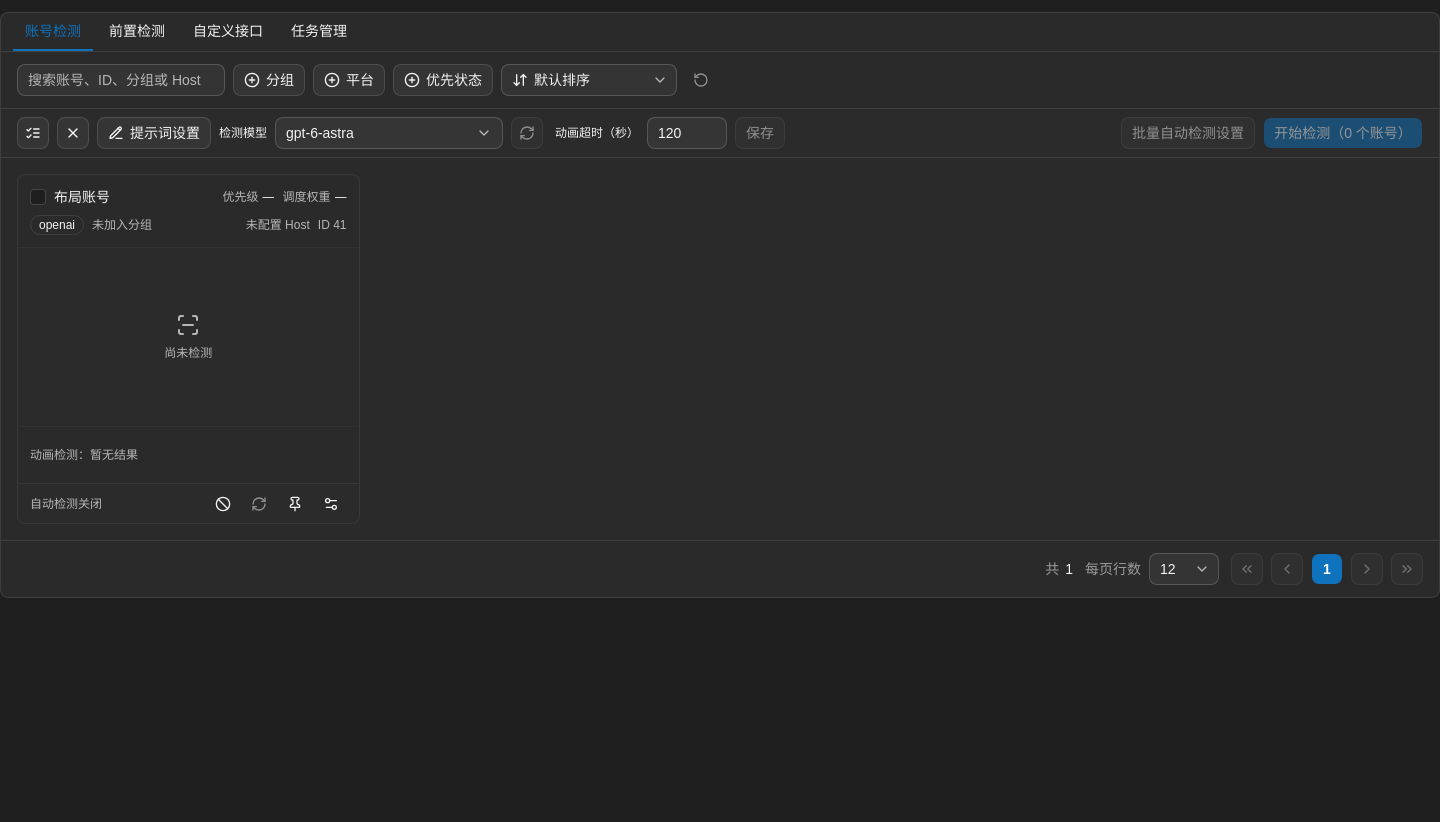
Test case: 前置检测 的模型和超时位于开始检测操作栏内
Click the tab "前置检测".
click(137, 32)  # box [97,13,177,51]
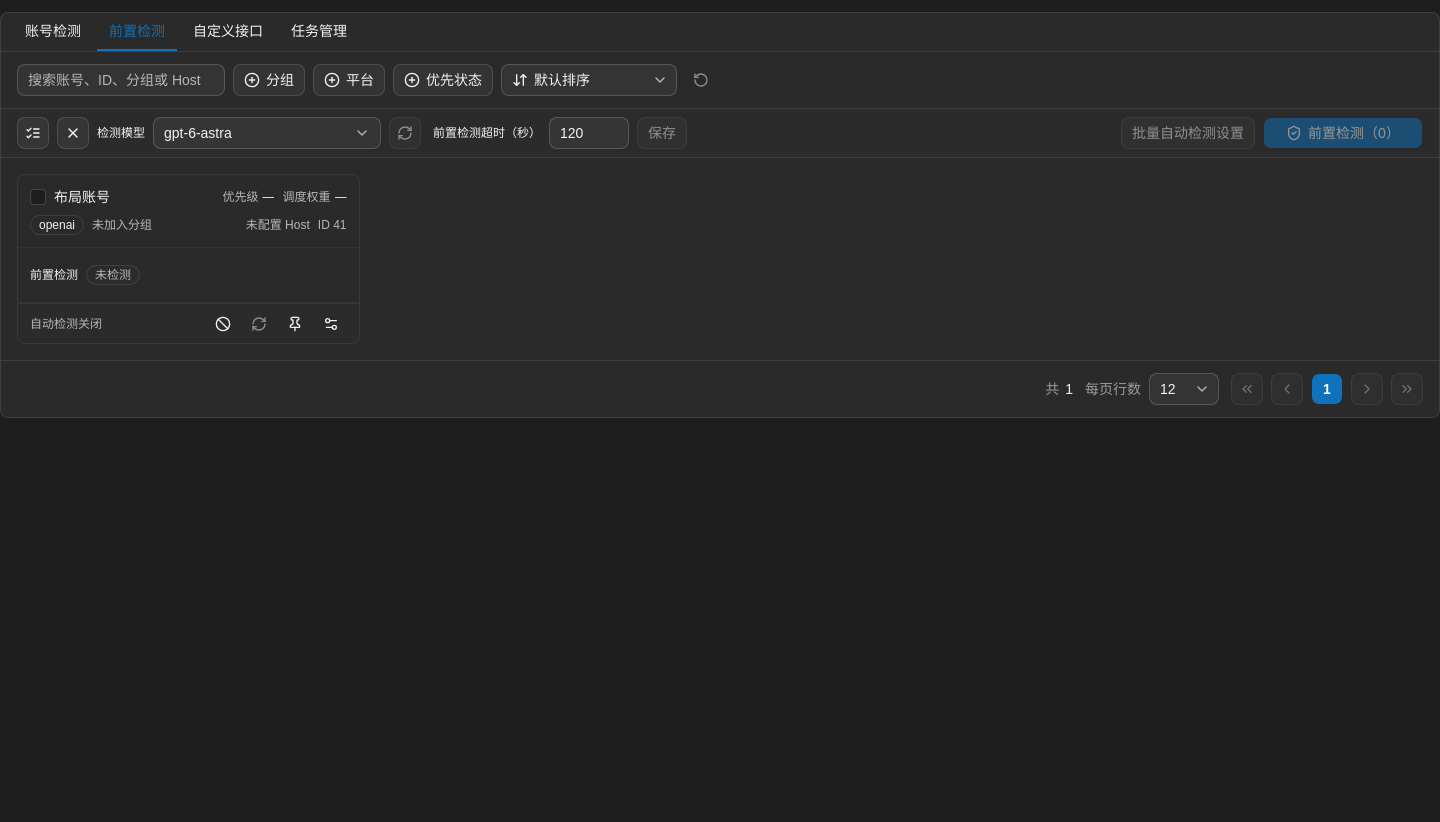
Expected: the button "前置检测（0）" is shown, [1263,117,1423,149]
Expected: the number field labelled "前置检测超时（秒）" is shown, [549,117,629,149]
